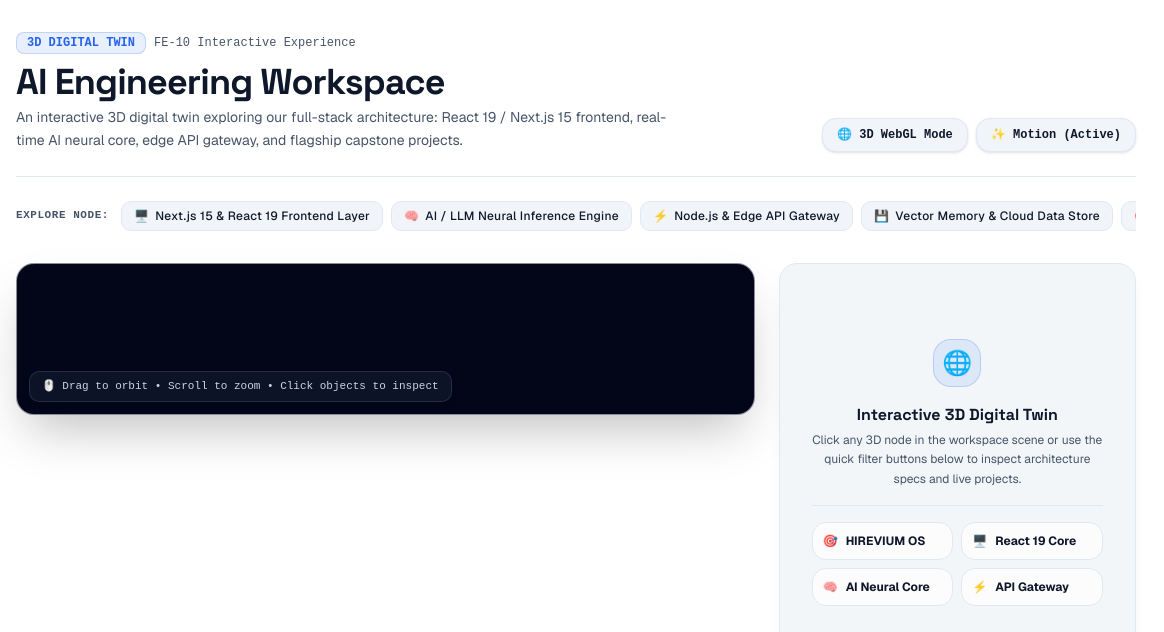
Workspace 3D Digital Twin Component Tests › allows toggling between 3D WebGL mode and 2D Static Digital Twin mode
Step 1. Click the button with aria-label "Switch to 2D Static Mode" → click(895, 134), box [822, 118, 968, 152]
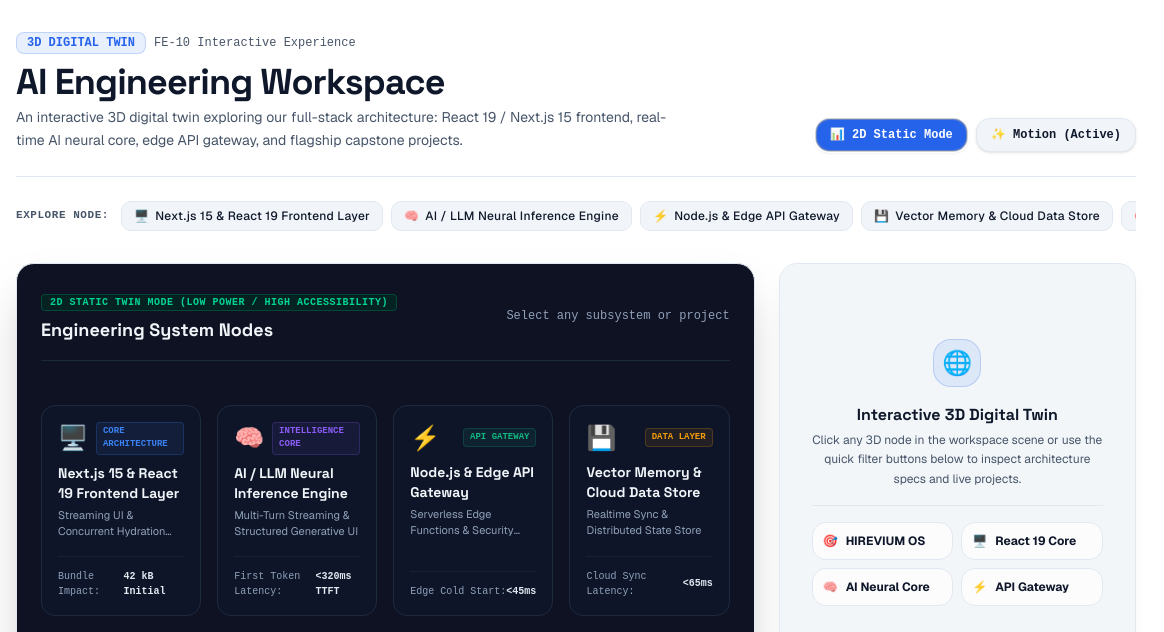
Check: the text "2D Static Twin Mode (Low Power / High Accessibility)" is shown, box [41, 294, 397, 310]
